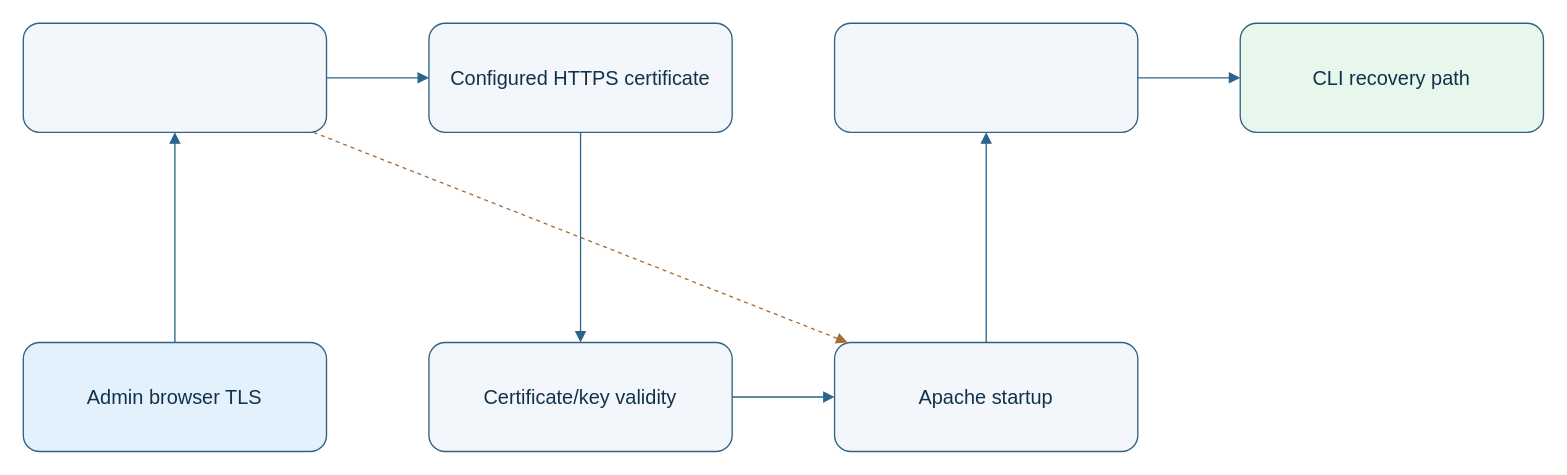
The diagram is 1567 pixels wide and 475 high, and some of its shapes have lost their labels. Each missing label, with the box of its shape:
GUI session: (833, 22, 1138, 132)
HTTPS listener: (22, 22, 327, 132)
